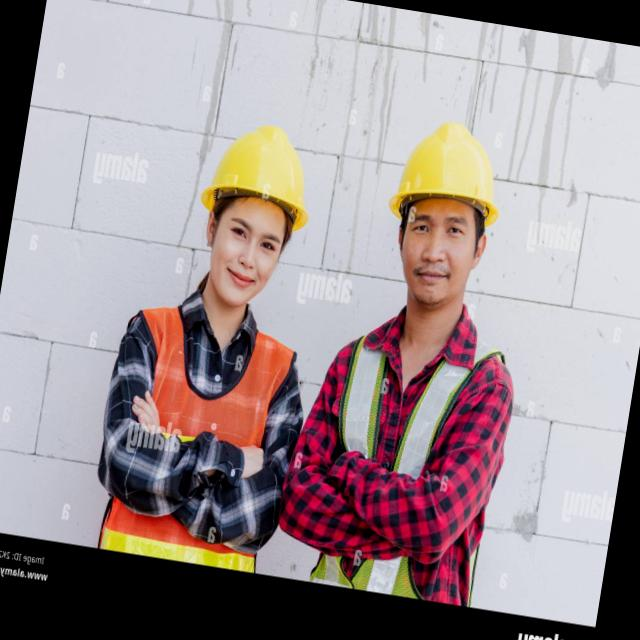helmet: (384, 112, 520, 236), (195, 113, 324, 236)
no-goggles: (388, 197, 490, 257), (208, 207, 297, 262)
vest: (90, 286, 310, 566), (307, 312, 510, 588)
